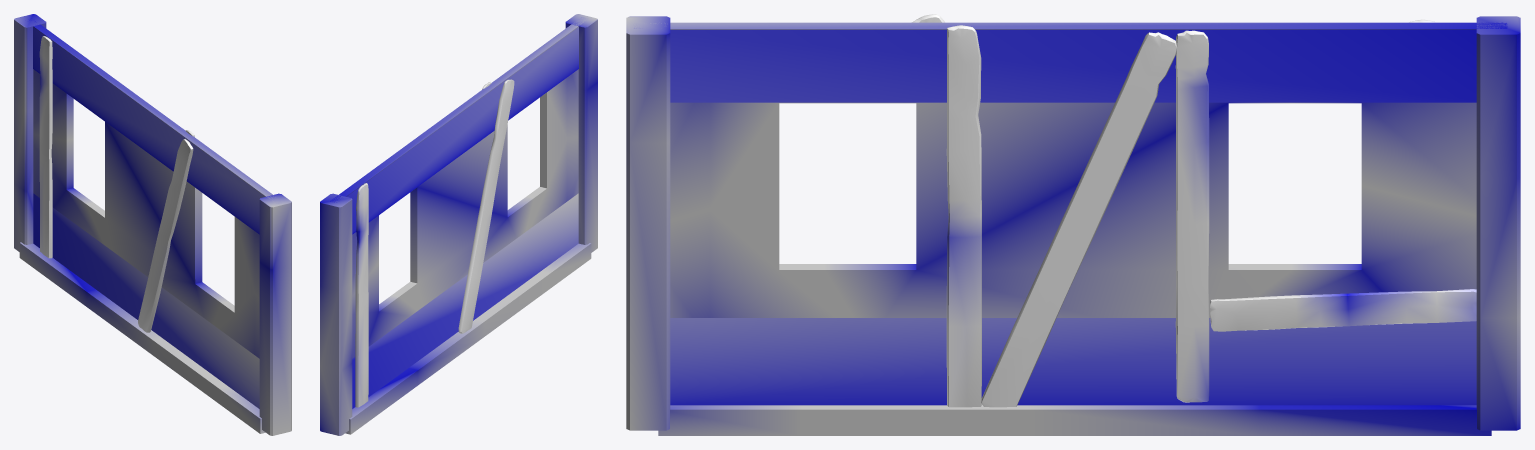
Rendered from SM_ShackFront6m_05.fbx.
The picture shows the model from 3 angles, left to right: view 1: azimuth 30°, elevation 25°; view 2: azimuth 150°, elevation 25°; view 3: azimuth 270°, elevation 25°; orthographic projection. The views are drawn at different scales.
Visible parts, largest first — view 1: SM_ShackFront6m_05_LOD0; view 2: SM_ShackFront6m_05_LOD0; view 3: SM_ShackFront6m_05_LOD0.
Part boxes in pixels (left/top/right/bottom): SM_ShackFront6m_05_LOD0: left=14, top=14, right=291, bottom=435; SM_ShackFront6m_05_LOD0: left=320, top=14, right=597, bottom=435; SM_ShackFront6m_05_LOD0: left=626, top=14, right=1520, bottom=435.
Size of the model in its own units: 32.28 by 614 by 309.
